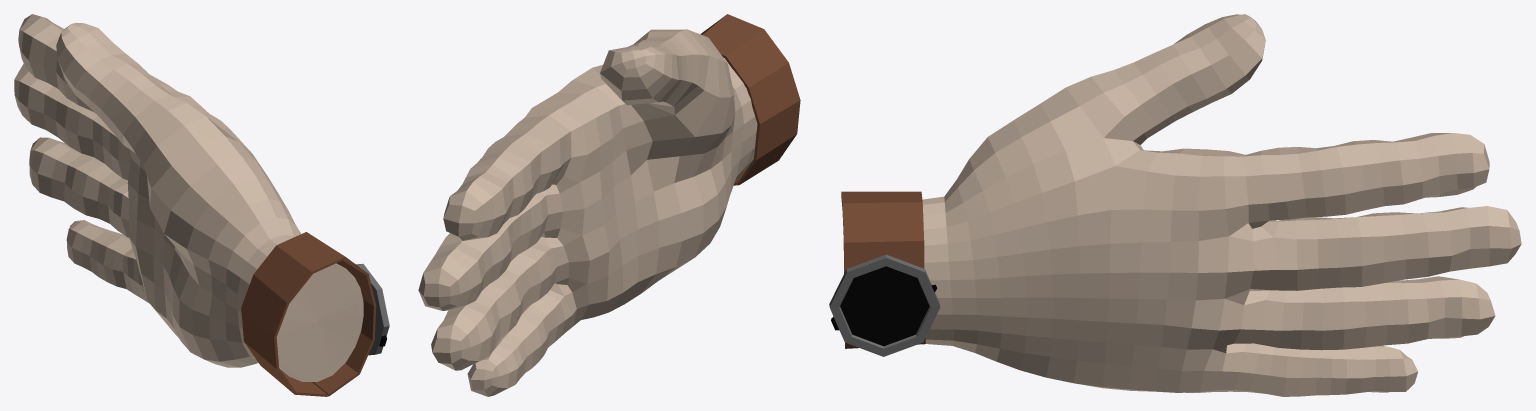
File: hand.fbx
3 renders of one model, left to right at view 1: azimuth 30°, elevation 25°; view 2: azimuth 150°, elevation 25°; view 3: azimuth 270°, elevation 25°, orthographic. The views are drawn at different scales.
Parts seen in each view (by area): view 1: Hand - Stylized, Strap, Watch; view 2: Hand - Stylized, Strap; view 3: Hand - Stylized, Watch, Strap.
Boxes of the visible parts, bbox=[...] form: Hand - Stylized: bbox=[14, 14, 363, 381]; Strap: bbox=[241, 232, 376, 396]; Watch: bbox=[356, 263, 389, 355]; Hand - Stylized: bbox=[418, 29, 757, 396]; Strap: bbox=[701, 14, 800, 185]; Hand - Stylized: bbox=[922, 14, 1521, 396]; Watch: bbox=[829, 254, 940, 356]; Strap: bbox=[841, 191, 925, 348].
Size of the model in its own units: 7.07 by 13.26 by 24.71.
